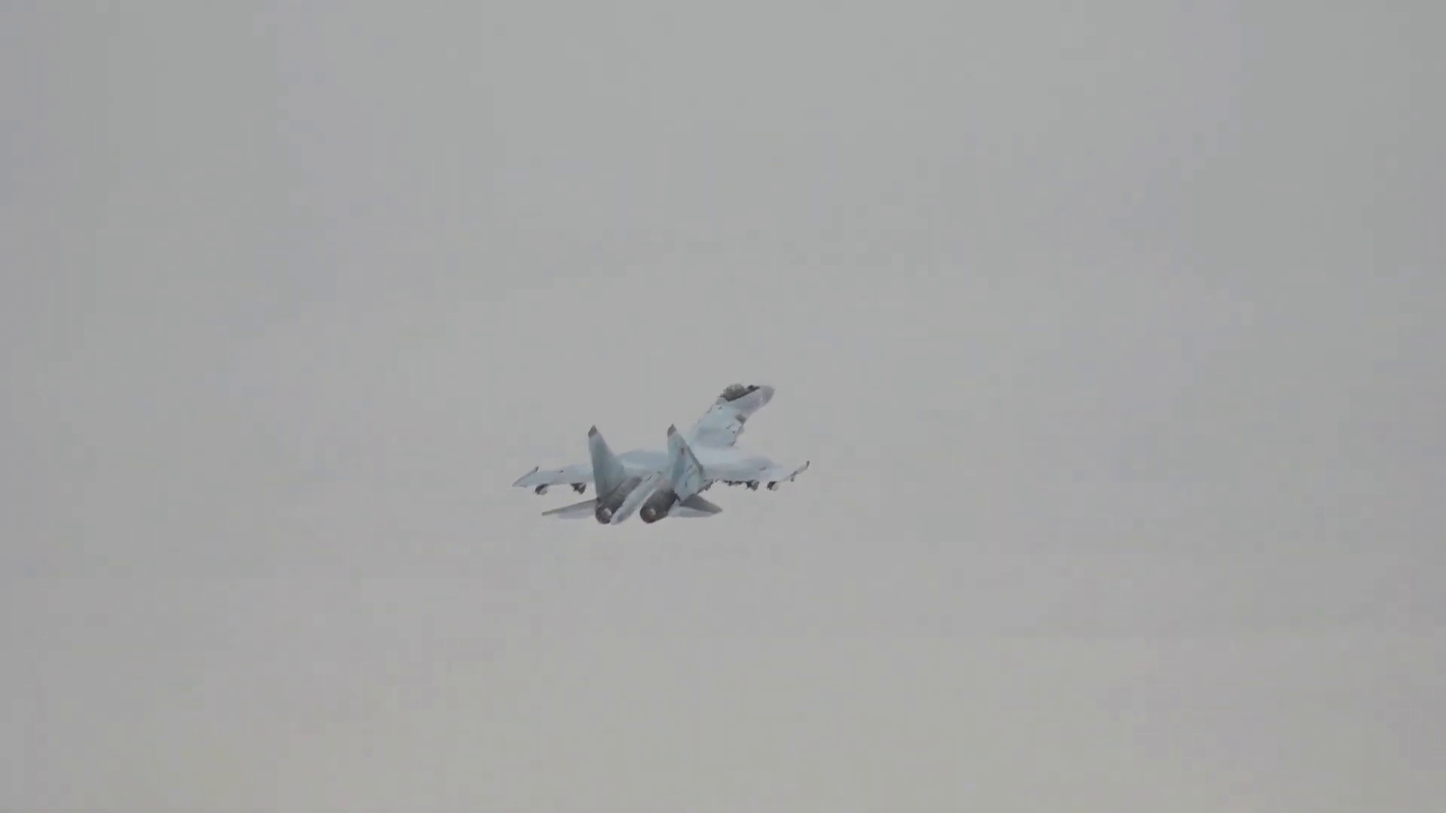Su35: (515, 381, 810, 524)
